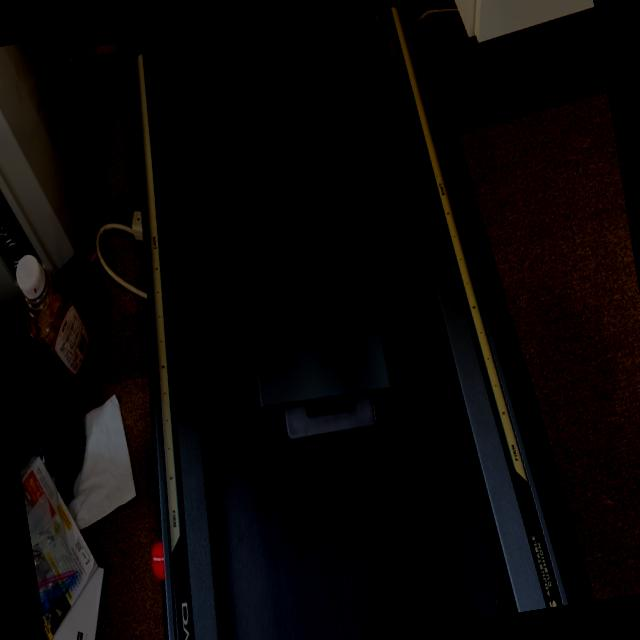Trash: (242, 304, 412, 448)
